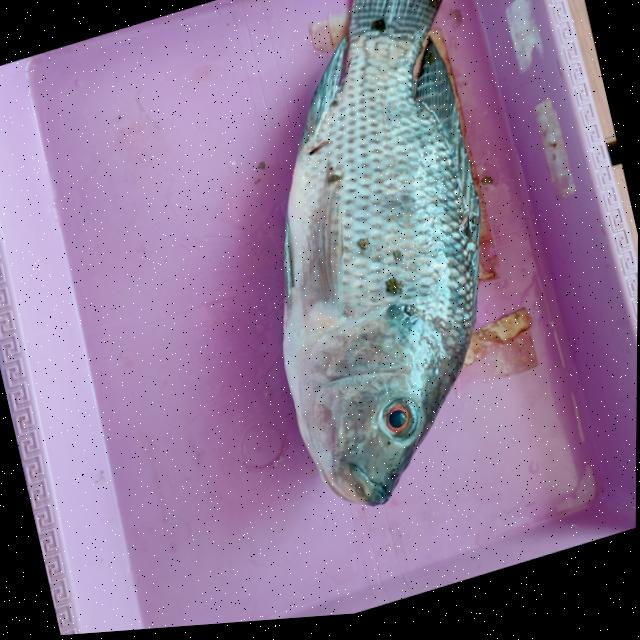Fresh: (225, 54, 543, 473), (371, 395, 431, 457)
